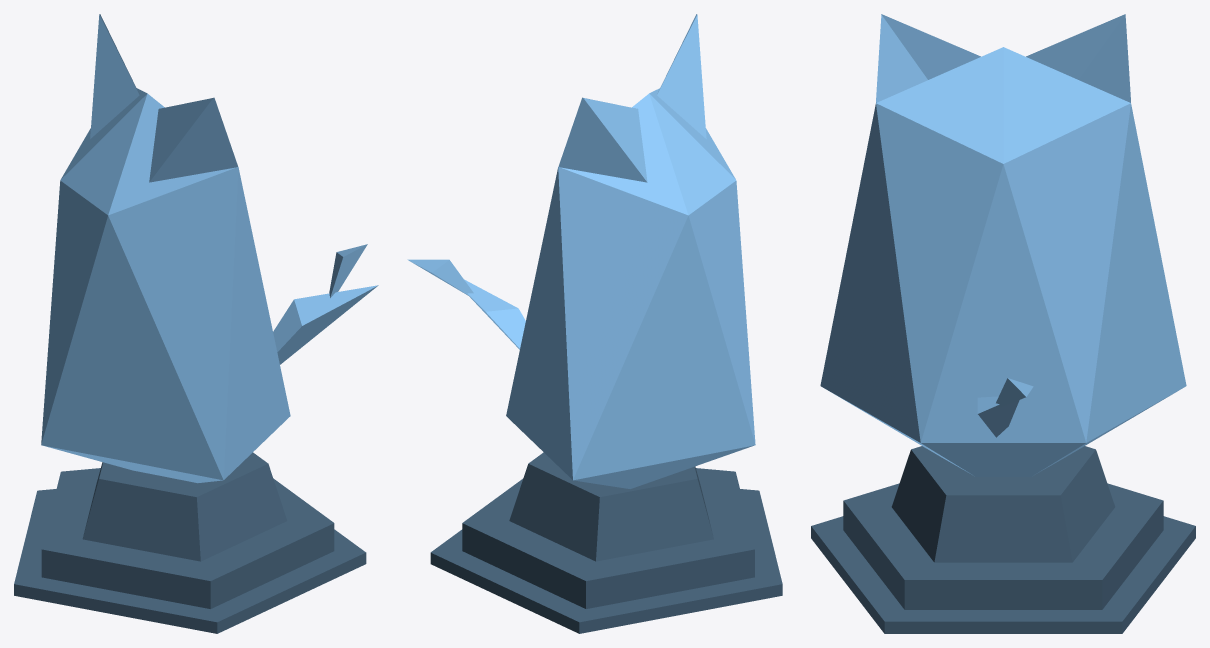
The model's file is avatar.fbx.
3 renders of one model, left to right at view 1: azimuth 30°, elevation 25°; view 2: azimuth 150°, elevation 25°; view 3: azimuth 270°, elevation 25°, orthographic. The views are drawn at different scales.
Visible parts, largest first — view 1: Icosphere.002; view 2: Icosphere.002; view 3: Icosphere.002.
Boxes of the visible parts, x1,y1,x2,y2 form: Icosphere.002: (14,14,378,633); Icosphere.002: (407,14,782,633); Icosphere.002: (811,14,1195,633).
Bounding box in the file's own units: 106 × 140 × 90.29.
